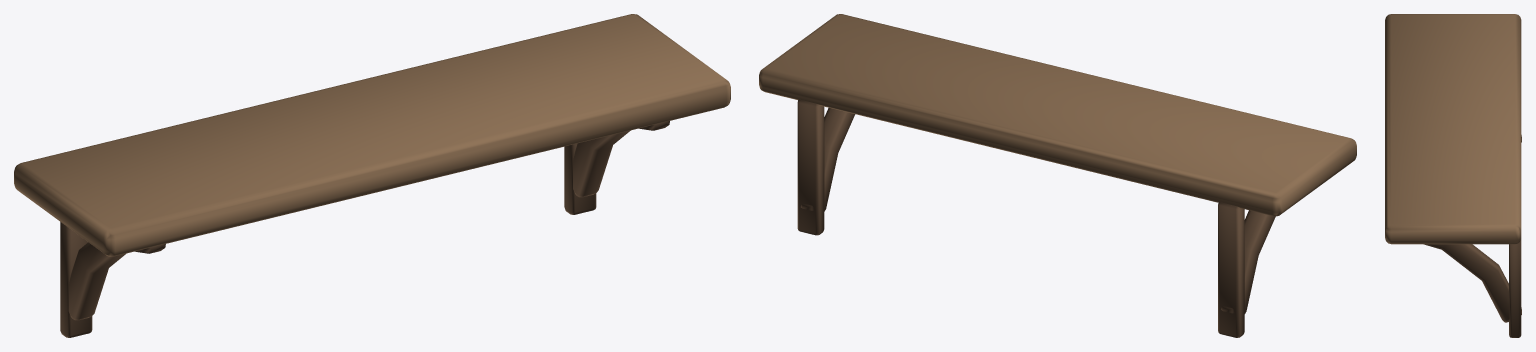
The model's file is wall_shelf.glb.
The picture shows the model from 3 angles, left to right: view 1: azimuth 30°, elevation 25°; view 2: azimuth 150°, elevation 25°; view 3: azimuth 270°, elevation 25°; orthographic projection. The views are drawn at different scales.
Visible parts, largest first — view 1: wall_shelf_mesh; view 2: wall_shelf_mesh; view 3: wall_shelf_mesh.
Boxes of the visible parts, bbox=[...] form: wall_shelf_mesh: bbox=[14, 14, 730, 337]; wall_shelf_mesh: bbox=[759, 14, 1356, 337]; wall_shelf_mesh: bbox=[1385, 14, 1521, 337].
Bounding box in the file's own units: 0.82 × 0.2295 × 0.2209.
